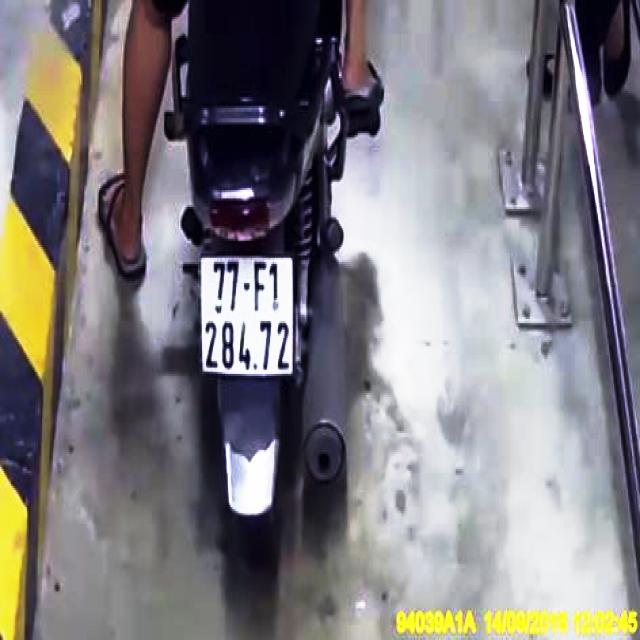license_plate: (201, 258, 296, 376)
